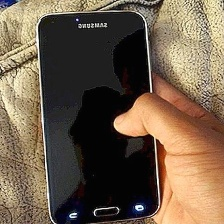phone: (29, 6, 163, 224)
